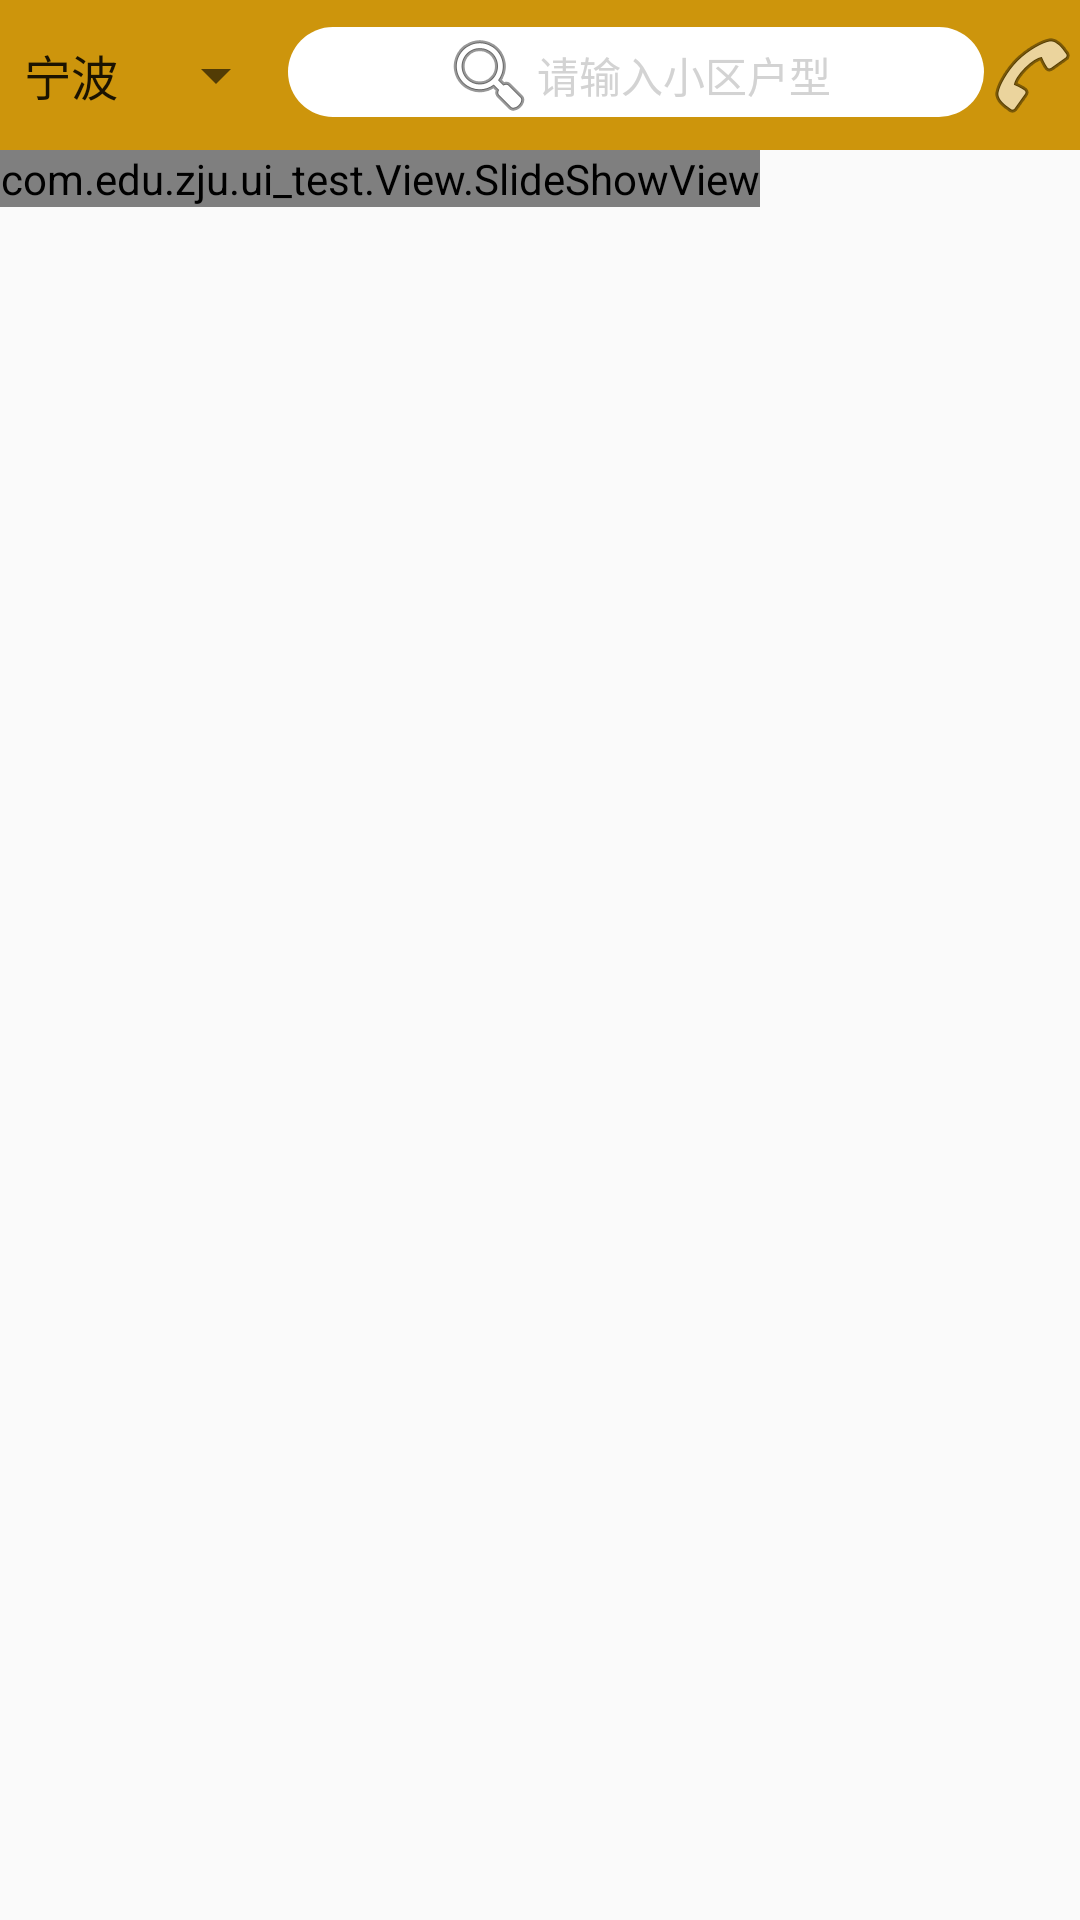

Where to tap for icons on this 1080px×1920px app screen, as [x,y]:
call: [1032,75]
search: [489,75]
